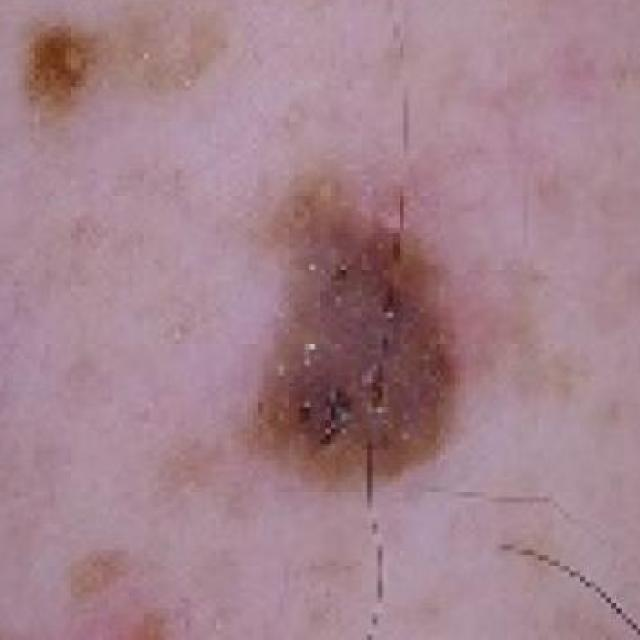BKL: (196, 144, 484, 555), (22, 0, 94, 150)
